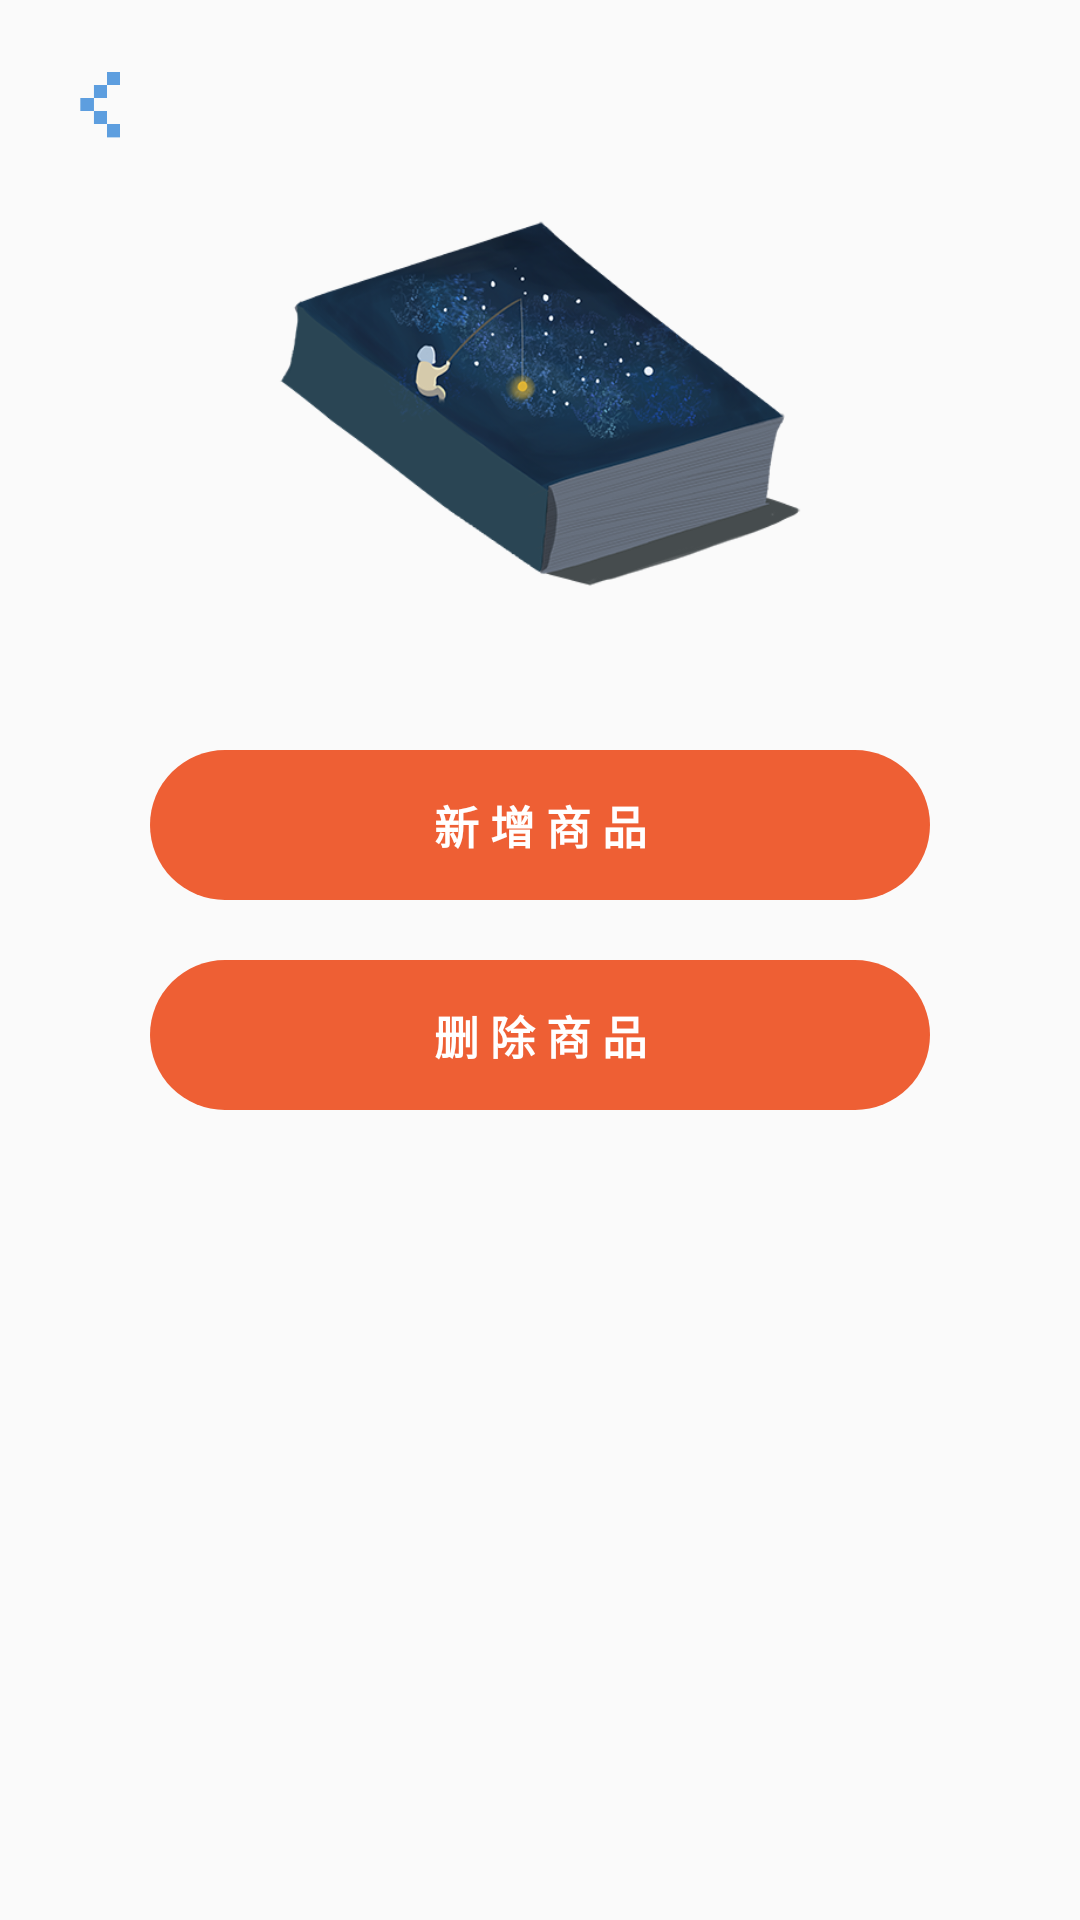

Icon click points for this 1080px×1920px phone screenshot, format (x=x, y=y):
back: (x=100, y=105)
